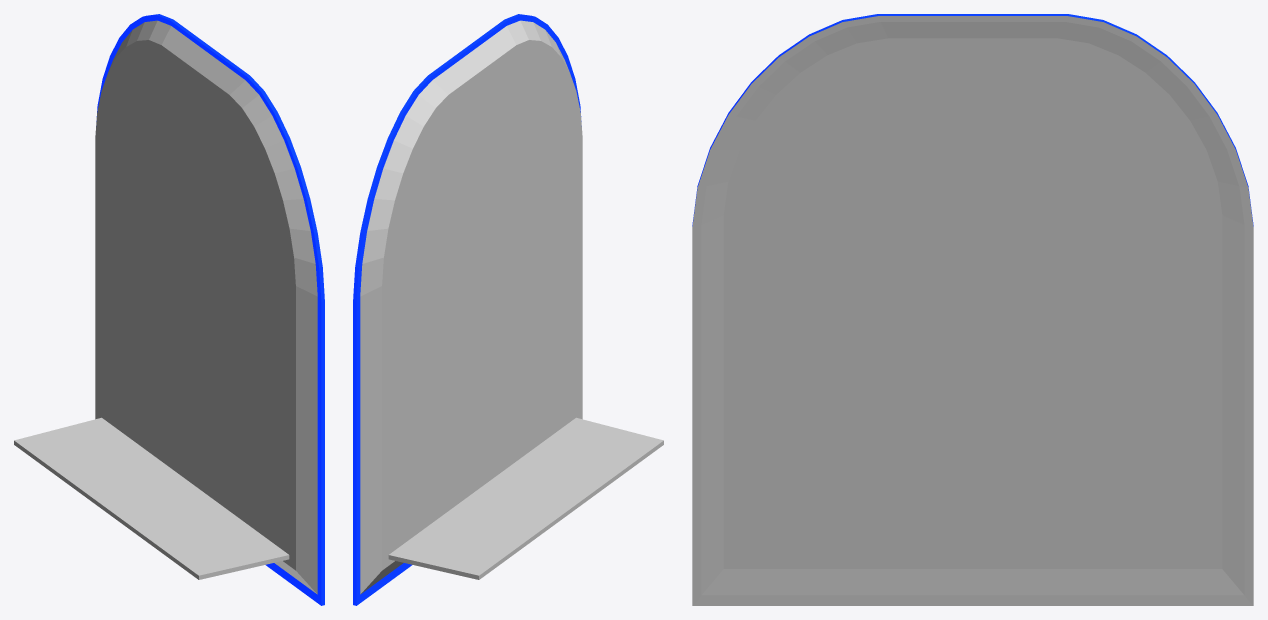
The model's file is mirror.dae.
3 renders of one model, left to right at view 1: azimuth 30°, elevation 25°; view 2: azimuth 150°, elevation 25°; view 3: azimuth 270°, elevation 25°, orthographic. The views are drawn at different scales.
Visible parts, largest first — view 1: Cube.001; view 2: Cube.001; view 3: Cube.001.
Boxes of the visible parts, left/top/right/bottom form: Cube.001: left=14, top=14, right=324, bottom=605; Cube.001: left=353, top=14, right=663, bottom=605; Cube.001: left=692, top=14, right=1253, bottom=605.
Bounding box in the file's own units: 0.7756 × 2.88 × 3.33.
